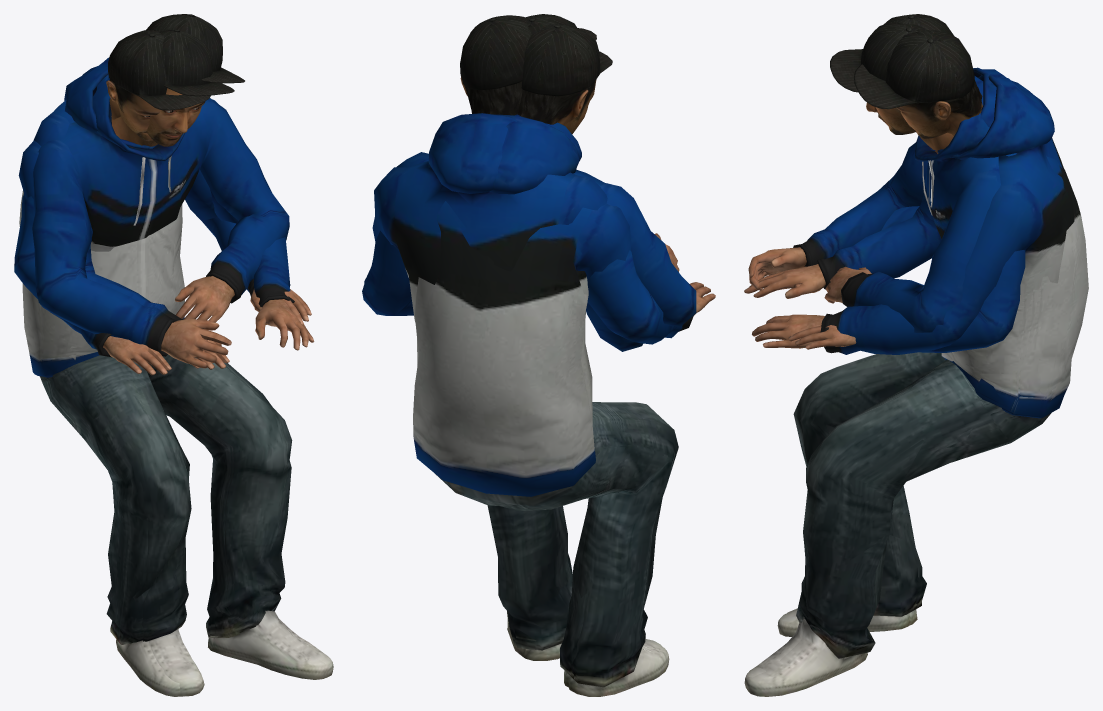
File: cliente-ravi.glb
3 renders of one model, left to right at view 1: azimuth 30°, elevation 25°; view 2: azimuth 150°, elevation 25°; view 3: azimuth 270°, elevation 25°, orthographic. The views are drawn at different scales.
Visible parts, largest first — view 1: pose_1, pose_0, pose_2; view 2: pose_2, pose_0, pose_1; view 3: pose_1, pose_2, pose_0.
Part boxes in pixels (x1,y1,x2,y2): pose_1: (29,29,333,696); pose_0: (18,30,325,696); pose_2: (14,14,314,696); pose_2: (372,15,715,696); pose_0: (362,23,674,686); pose_1: (396,14,696,687); pose_1: (746,22,1055,696); pose_2: (752,30,1074,666); pose_0: (744,14,1088,688).
Bounding box in the file's own units: 0.6346 × 1.4 × 0.6943.
2 materials, 2 textured.
